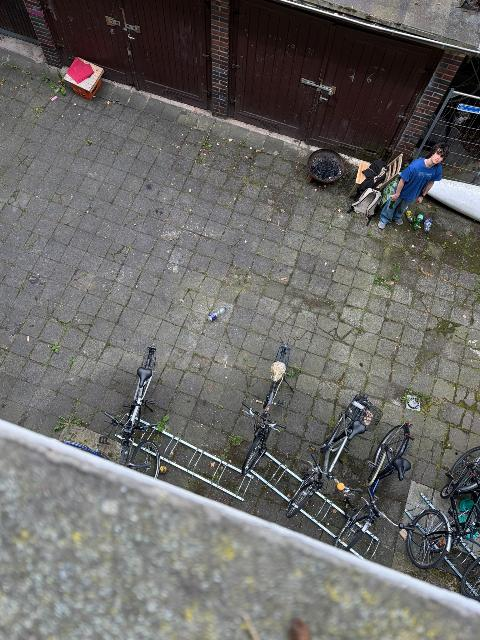glass_bottle: (389, 200, 395, 209)
plastic_bottle: (207, 307, 226, 322), (413, 214, 424, 231), (403, 206, 413, 222), (425, 219, 430, 234)
